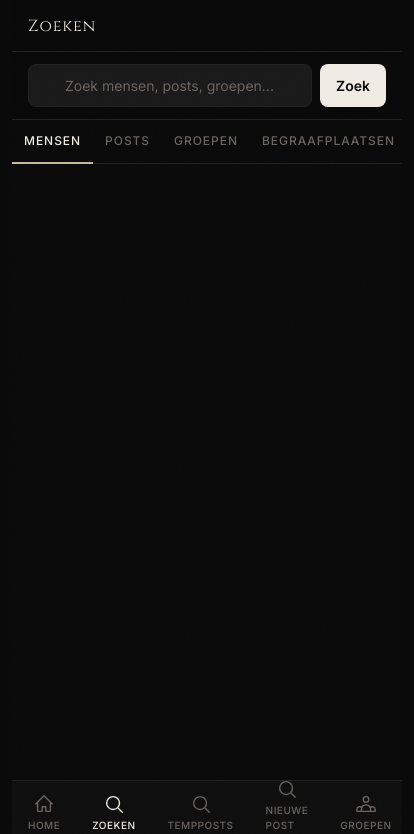
Zoeken › Tabs wisselen › toont sorteeropties op de Posts-tab na zoeken
Type "test" into the field with placeholder "Zoek mensen, posts, groepen..." at (170, 86), box [28,64,312,107]
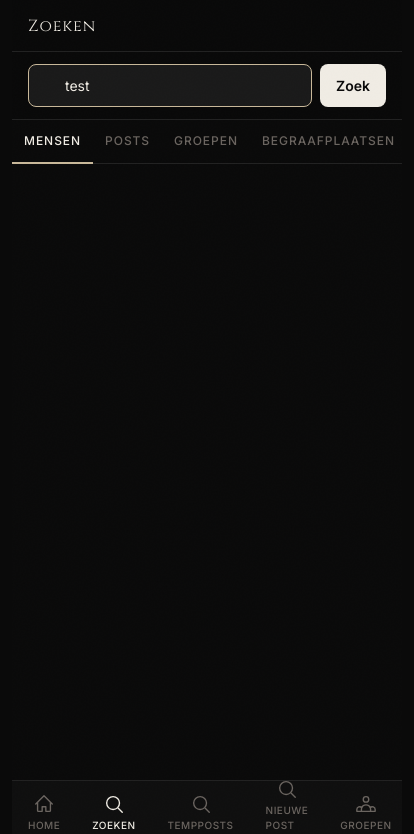
Click the button "Zoek" at (353, 86), box [320,64,386,107]
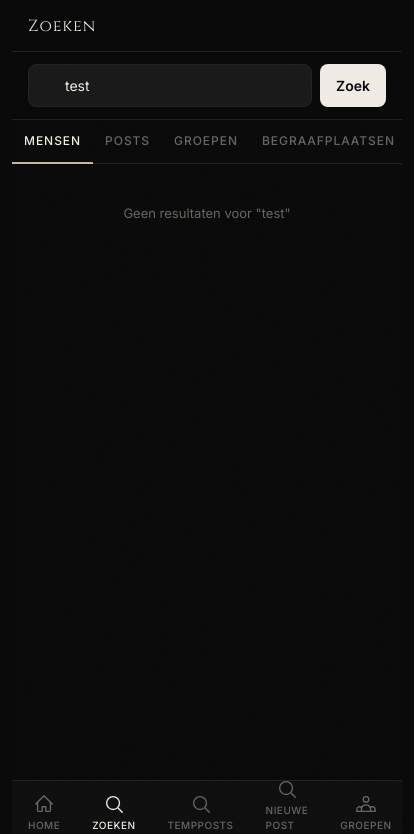
Click the button "Posts" at (128, 142), box [93,120,162,164]
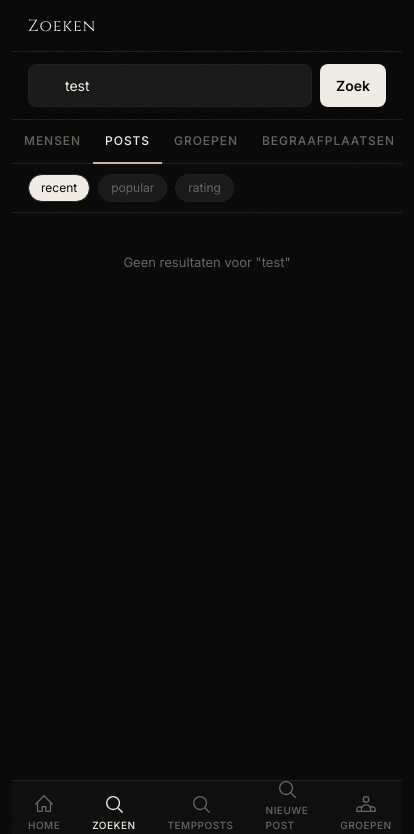
Now the button "recent" is shown, box [28,174,90,202]
Now the button "popular" is shown, box [98,174,167,202]
Now the button "rating" is shown, box [175,174,234,202]
